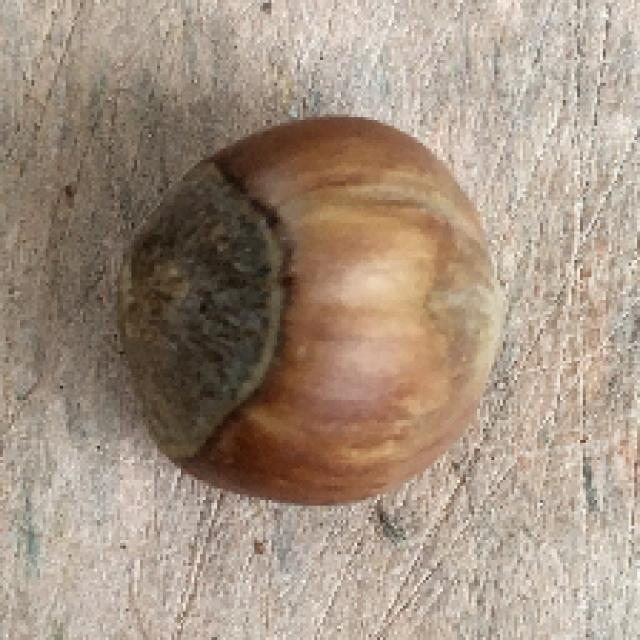damagedHazelnut: (110, 113, 505, 513)
